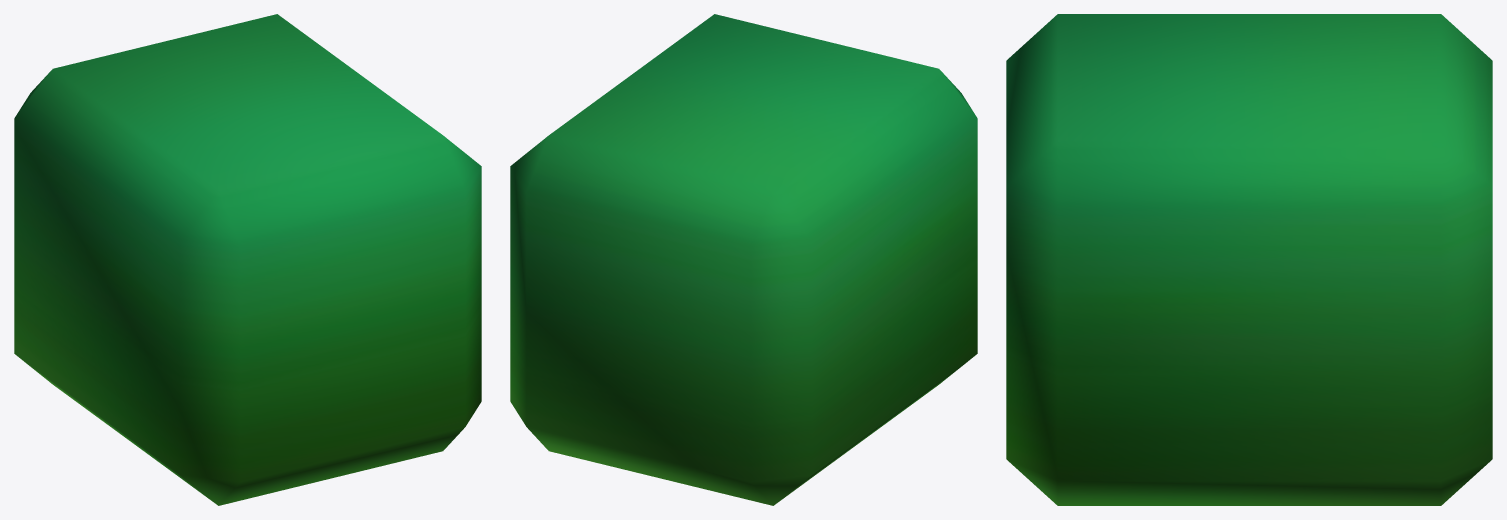
Rendered from Bush_1_A_3.fbx.
The picture shows the model from 3 angles, left to right: view 1: azimuth 30°, elevation 25°; view 2: azimuth 150°, elevation 25°; view 3: azimuth 270°, elevation 25°; orthographic projection. The views are drawn at different scales.
Parts seen in each view (by area): view 1: Bush_1_A_3; view 2: Bush_1_A_3; view 3: Bush_1_A_3.
Part boxes in pixels (left/top/right/bottom): Bush_1_A_3: left=14, top=14, right=481, bottom=505; Bush_1_A_3: left=510, top=14, right=977, bottom=505; Bush_1_A_3: left=1006, top=14, right=1492, bottom=505.
Bounding box in the file's own units: 61.94 × 61.94 × 74.78.
